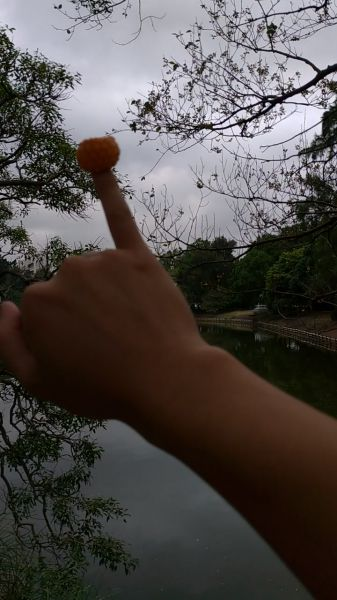eggs: (75, 133, 121, 172)
